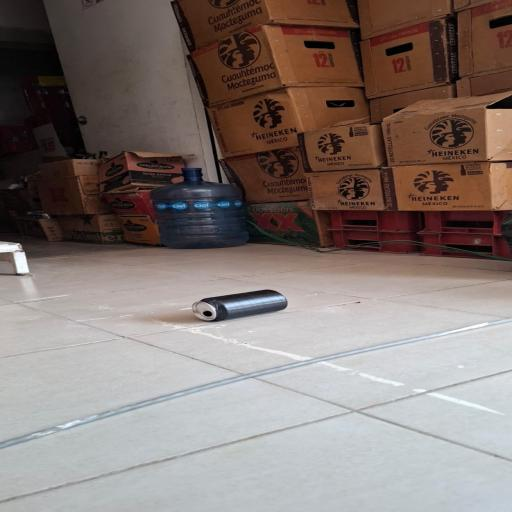LATA: (177, 288, 303, 326)
